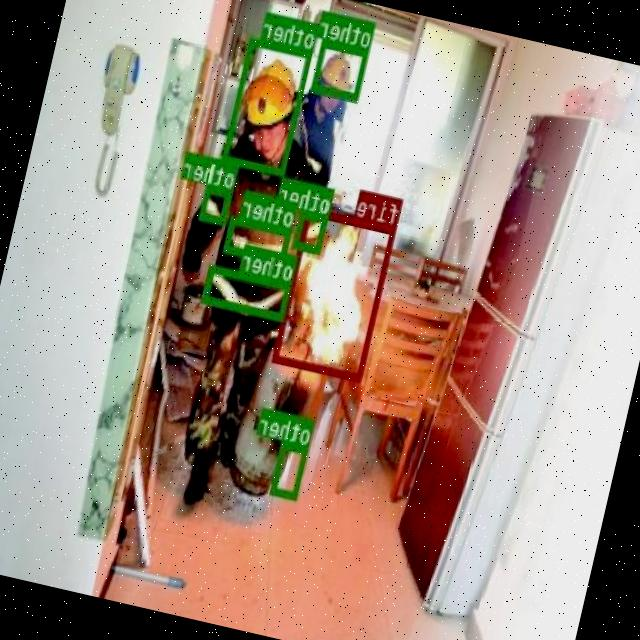fire: (273, 205, 397, 380)
